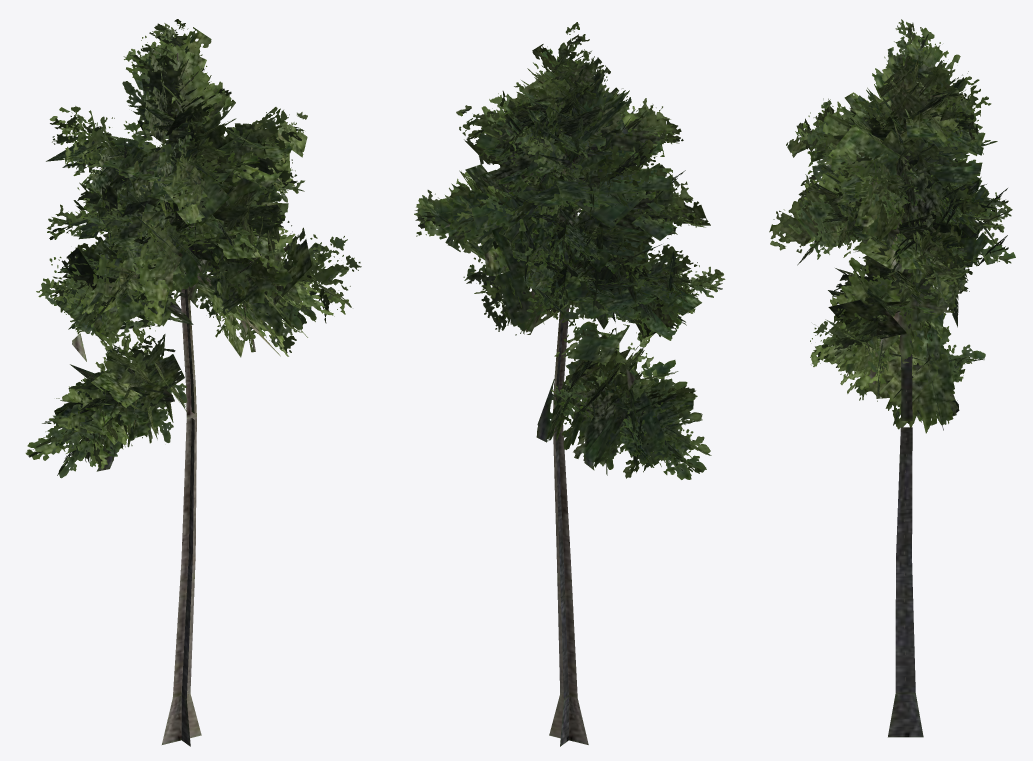
3 renders of one model, left to right at view 1: azimuth 30°, elevation 25°; view 2: azimuth 150°, elevation 25°; view 3: azimuth 270°, elevation 25°, orthographic.
Visible parts, largest first — view 1: El_high1; view 2: El_high1; view 3: El_high1.
Boxes of the visible parts, left/top/right/bottom form: El_high1: left=25, top=19, right=361, bottom=746; El_high1: left=414, top=22, right=725, bottom=746; El_high1: left=769, top=19, right=1015, bottom=737.
Bounding box in the file's own units: 1302 × 3021 × 966.
